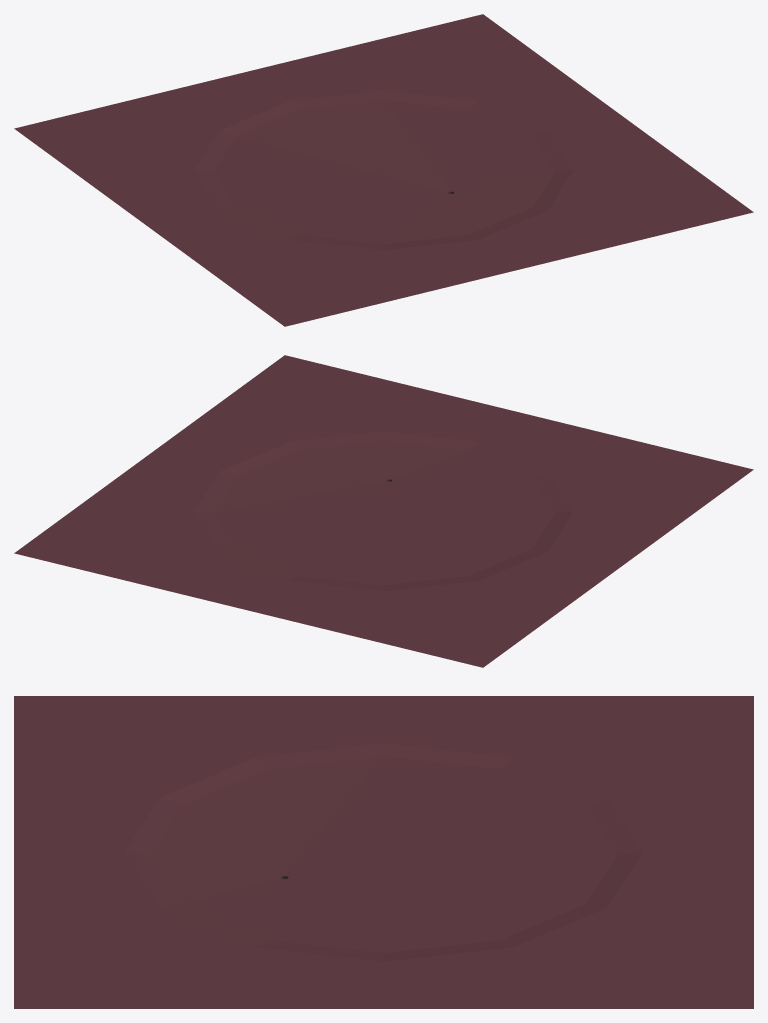
The model's file is tile-golf-green-circle.fbx.
The picture shows the model from 3 angles, top to bottom: view 1: azimuth 30°, elevation 25°; view 2: azimuth 150°, elevation 25°; view 3: azimuth 270°, elevation 25°; orthographic projection. The views are drawn at different scales.
Parts seen in each view (by area): view 1: tile-golf-green-circle-nb; view 2: tile-golf-green-circle-nb; view 3: tile-golf-green-circle-nb.
Part boxes in pixels (box(x1,y1,x2,y2)): tile-golf-green-circle-nb: box(14, 14, 753, 326); tile-golf-green-circle-nb: box(14, 355, 753, 667); tile-golf-green-circle-nb: box(14, 696, 753, 1008).
Bounding box in the file's own units: 30 × 0.398 × 30.
